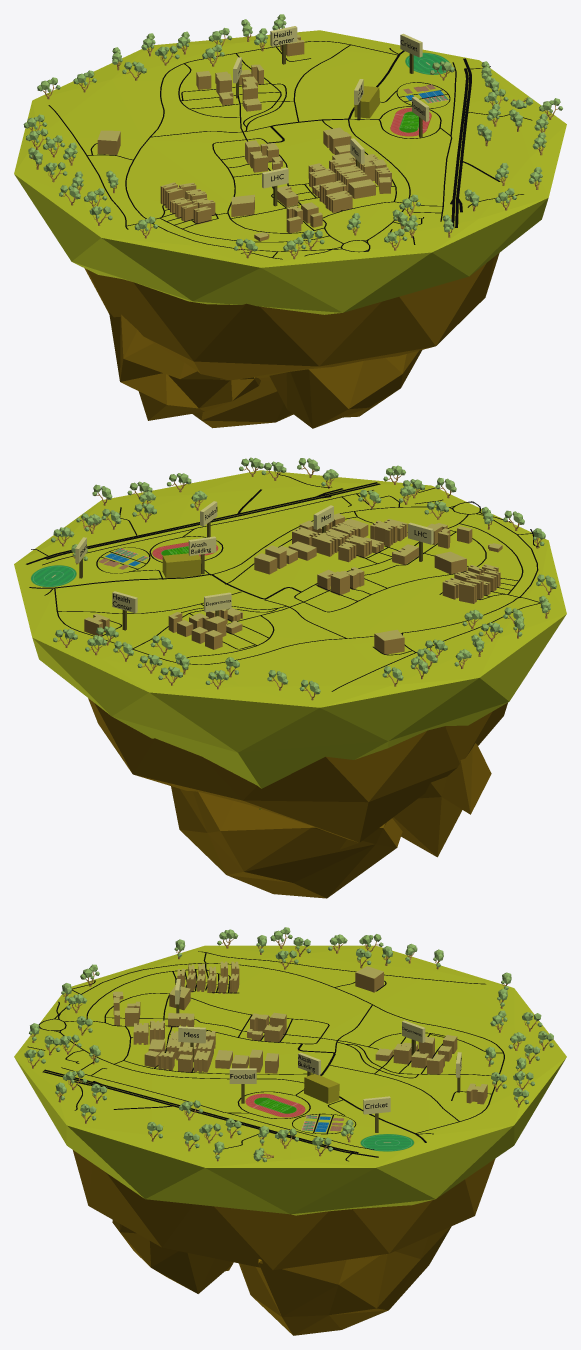
File: clgmodel12.glb
3 views of the same model, one above another, from view 1: azimuth 30°, elevation 25°; view 2: azimuth 150°, elevation 25°; view 3: azimuth 270°, elevation 25° (orthographic). The views are drawn at different scales.
Parts seen in each view (by area): view 1: Icosphere.003, Icosphere.004, map.osm_buildings, Icosphere.006, Icosphere.005, map.osm_roads_service, Icosphere.008, map.osm_roads_trunk, 4-removebg-preview, cricket-removebg-preview, Cube.003; view 2: Icosphere.003, Icosphere.004, Icosphere.008, map.osm_buildings, Icosphere.006, map.osm_roads_service, map.osm_roads_trunk, Cube.003, cricket-removebg-preview; view 3: Icosphere.003, Icosphere.004, Icosphere.008, map.osm_buildings, map.osm_roads_service, Icosphere.005, map.osm_roads_trunk, 4-removebg-preview, Cube.003, cricket-removebg-preview.
Part boxes in pixels (x1=…): Icosphere.003: x1=14, y1=30, x2=566, y2=314; Icosphere.004: x1=84, y1=253, x2=499, y2=381; map.osm_buildings: x1=97, y1=34, x2=391, y2=241; Icosphere.006: x1=109, y1=312, x2=260, y2=420; Icosphere.005: x1=269, y1=350, x2=422, y2=428; map.osm_roads_service: x1=48, y1=41, x2=532, y2=259; Icosphere.008: x1=192, y1=380, x2=293, y2=428; map.osm_roads_trunk: x1=450, y1=58, x2=471, y2=227; 4-removebg-preview: x1=390, y1=107, x2=431, y2=136; cricket-removebg-preview: x1=405, y1=52, x2=449, y2=74; Cube.003: x1=354, y1=86, x2=379, y2=118; Icosphere.003: x1=14, y1=470, x2=566, y2=809; Icosphere.004: x1=88, y1=698, x2=507, y2=849; Icosphere.008: x1=171, y1=786, x2=402, y2=898; map.osm_buildings: x1=84, y1=513, x2=502, y2=654; Icosphere.006: x1=392, y1=743, x2=491, y2=857; map.osm_roads_service: x1=31, y1=473, x2=540, y2=691; map.osm_roads_trunk: x1=26, y1=482, x2=380, y2=564; Cube.003: x1=162, y1=553, x2=201, y2=578; cricket-removebg-preview: x1=31, y1=565, x2=76, y2=586; Icosphere.003: x1=14, y1=945, x2=566, y2=1215; Icosphere.004: x1=73, y1=1150, x2=495, y2=1270; Icosphere.008: x1=239, y1=1226, x2=451, y2=1335; map.osm_buildings: x1=113, y1=961, x2=487, y2=1104; map.osm_roads_service: x1=27, y1=951, x2=504, y2=1161; Icosphere.005: x1=112, y1=1220, x2=233, y2=1293; map.osm_roads_trunk: x1=42, y1=1069, x2=378, y2=1157; 4-removebg-preview: x1=245, y1=1093, x2=305, y2=1117; Cube.003: x1=304, y1=1074, x2=339, y2=1103; cricket-removebg-preview: x1=360, y1=1134, x2=414, y2=1151.
Size of the model in its own units: 132 by 86.8 by 138.
22 materials, 5 textured.
